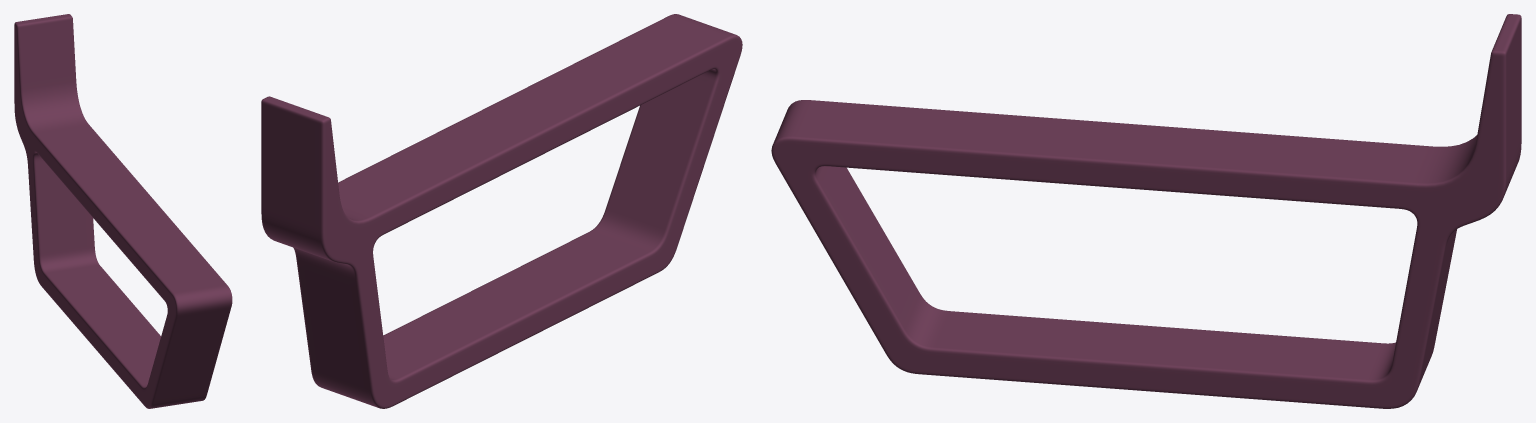
3 views of the same model, side by side, from view 1: azimuth 30°, elevation 25°; view 2: azimuth 150°, elevation 25°; view 3: azimuth 270°, elevation 25° (orthographic). The views are drawn at different scales.
Visible parts, largest first — view 1: Geo3; view 2: Geo3; view 3: Geo3.
Boxes of the visible parts, left/top/right/bottom form: Geo3: left=14, top=14, right=232, bottom=408; Geo3: left=261, top=14, right=742, bottom=408; Geo3: left=771, top=14, right=1521, bottom=408.
Size of the model in its own units: 18.78 by 34.39 by 63.83.
